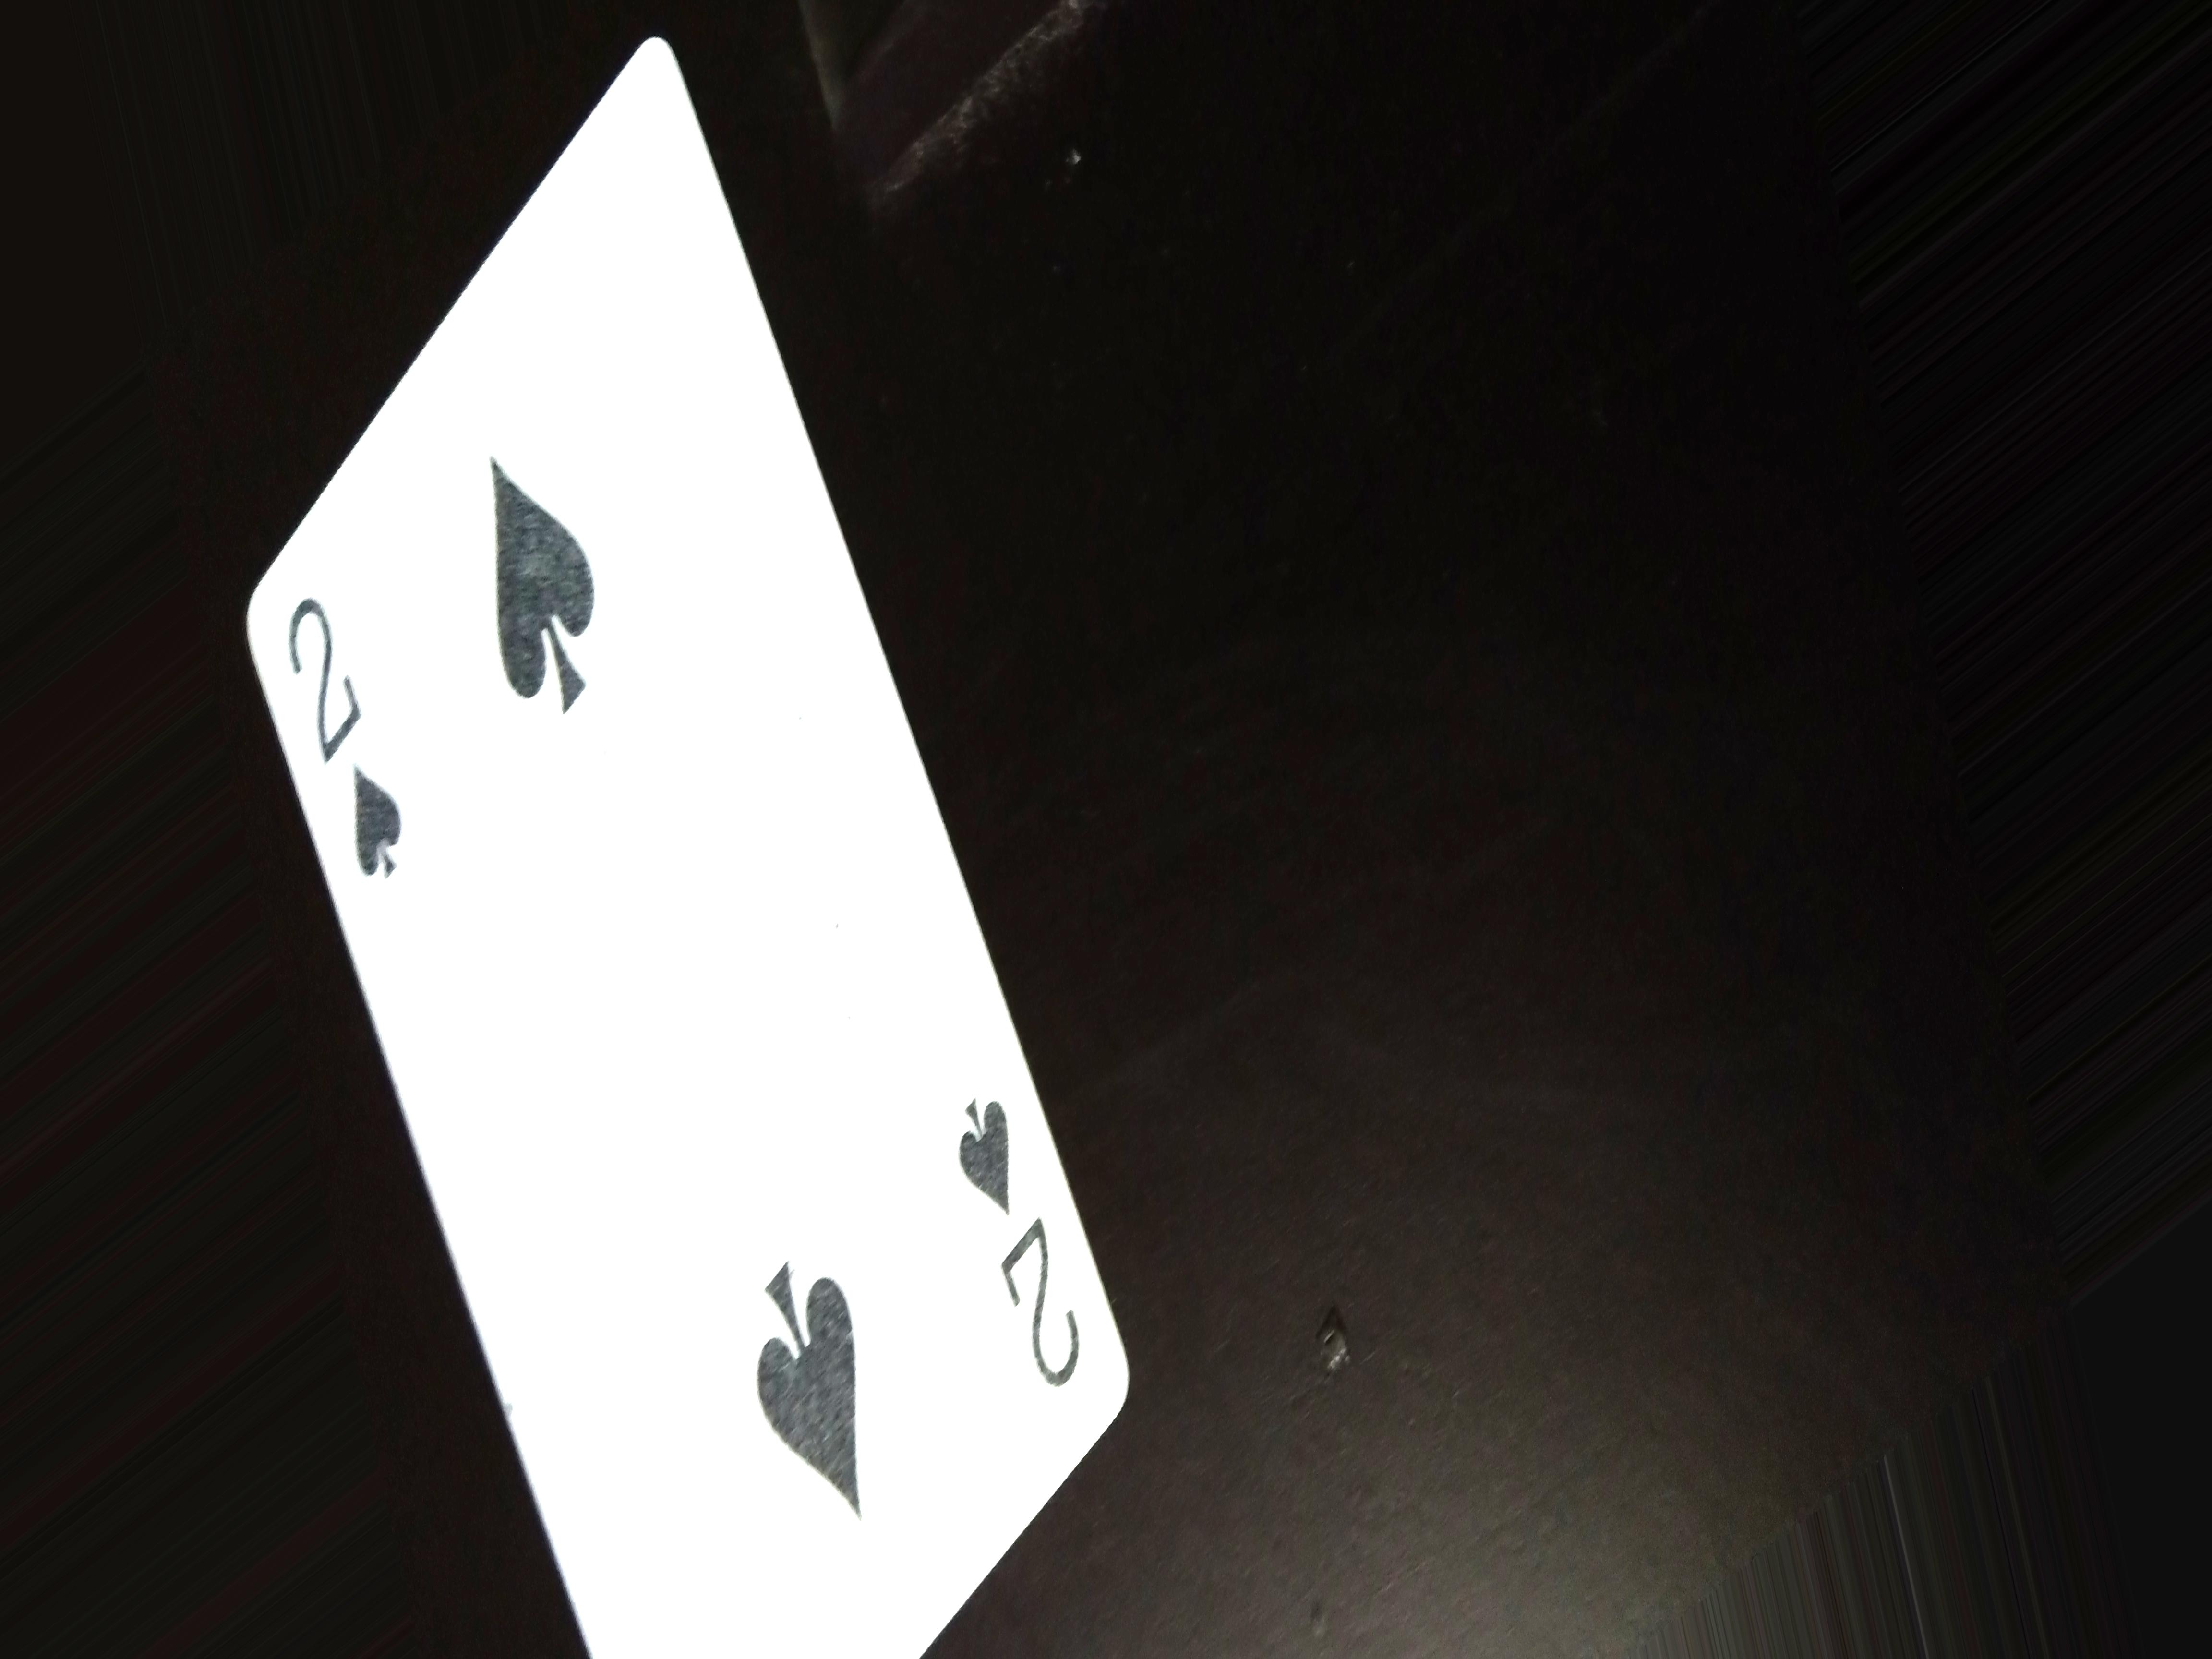2S: (261, 589, 423, 887)
